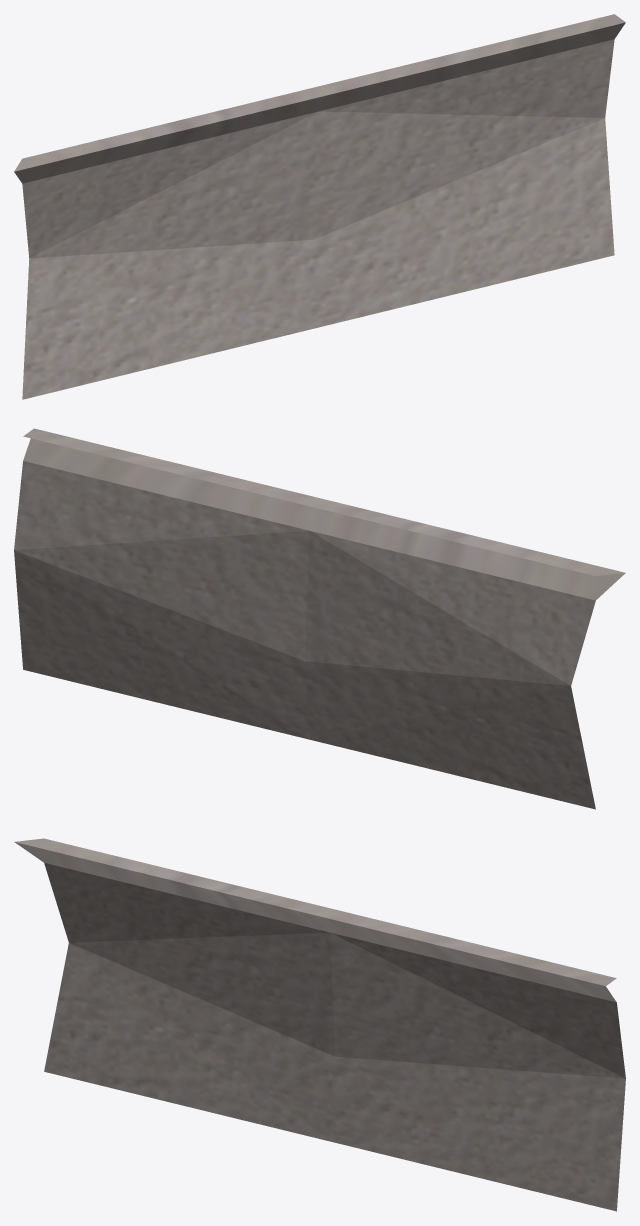
File: W_A2l_xxxx [Marmor]_1343.glb
The picture shows the model from 3 angles, top to bottom: view 1: azimuth 30°, elevation 25°; view 2: azimuth 150°, elevation 25°; view 3: azimuth 330°, elevation 25°; orthographic projection. The views are drawn at different scales.
Visible parts, largest first — view 1: polySurfaceShape787, polySurfaceShape1065; view 2: polySurfaceShape787, polySurfaceShape1065; view 3: polySurfaceShape787, polySurfaceShape1065.
Boxes of the visible parts, x1,y1,x2,y2 form: polySurfaceShape787: (22, 39, 614, 399); polySurfaceShape1065: (14, 14, 625, 183); polySurfaceShape787: (14, 461, 595, 809); polySurfaceShape1065: (23, 428, 625, 600); polySurfaceShape787: (44, 863, 625, 1211); polySurfaceShape1065: (14, 838, 616, 1002).
Size of the model in its own units: 1.03 by 0.3891 by 0.0607.
2 materials, 2 textured.
